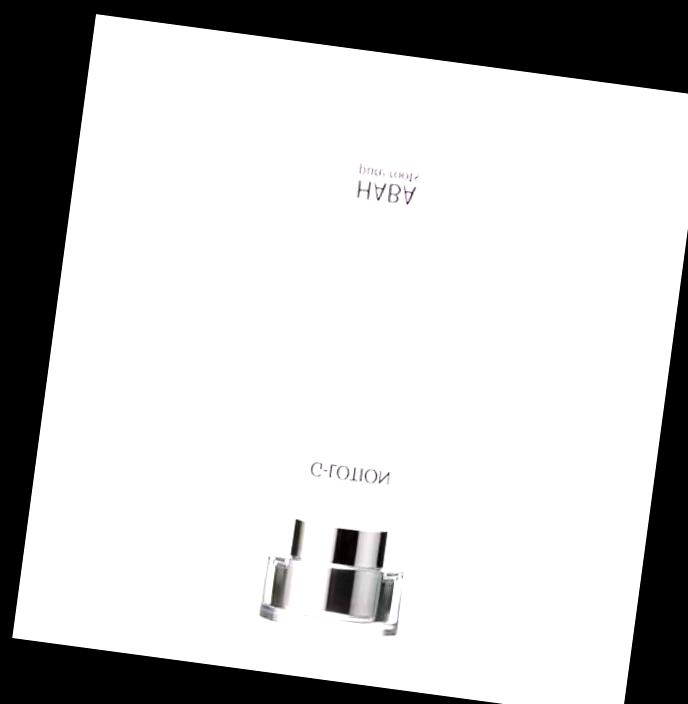cosmetic: (251, 84, 477, 640)
